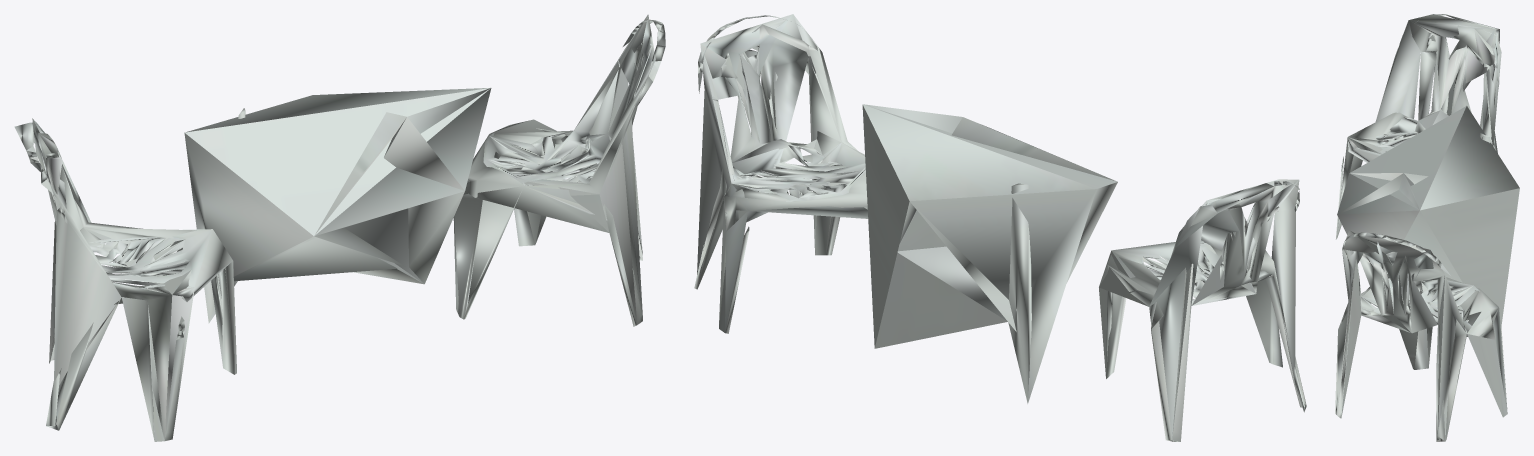
File: fv_table_chairs.lod1.glb
3 views of the same model, side by side, from view 1: azimuth 30°, elevation 25°; view 2: azimuth 150°, elevation 25°; view 3: azimuth 270°, elevation 25° (orthographic). The views are drawn at different scales.
Visible parts, largest first — view 1: fv_table_chairs; view 2: fv_table_chairs; view 3: fv_table_chairs.
Boxes of the visible parts, x1,y1,x2,y2 form: fv_table_chairs: [14, 14, 665, 441]; fv_table_chairs: [694, 14, 1306, 441]; fv_table_chairs: [1335, 14, 1519, 441].
Bounding box in the file's own units: 1.39 × 0.558 × 0.4666.
1 material, 1 textured.
